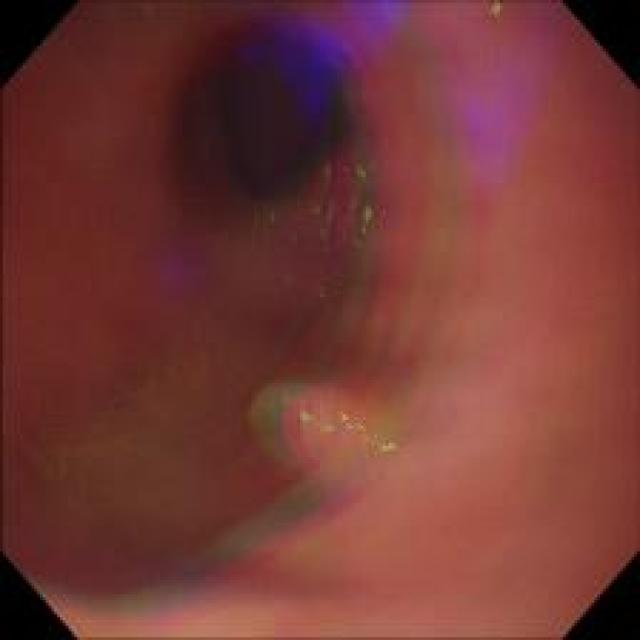blur: (4, 2, 635, 636)
color misalignment: (315, 9, 550, 265), (31, 368, 176, 544), (251, 198, 396, 366), (241, 368, 399, 488), (398, 269, 499, 430), (244, 19, 355, 130), (144, 224, 246, 324), (34, 571, 236, 620), (169, 519, 315, 568)
contrast: (162, 16, 352, 222)
